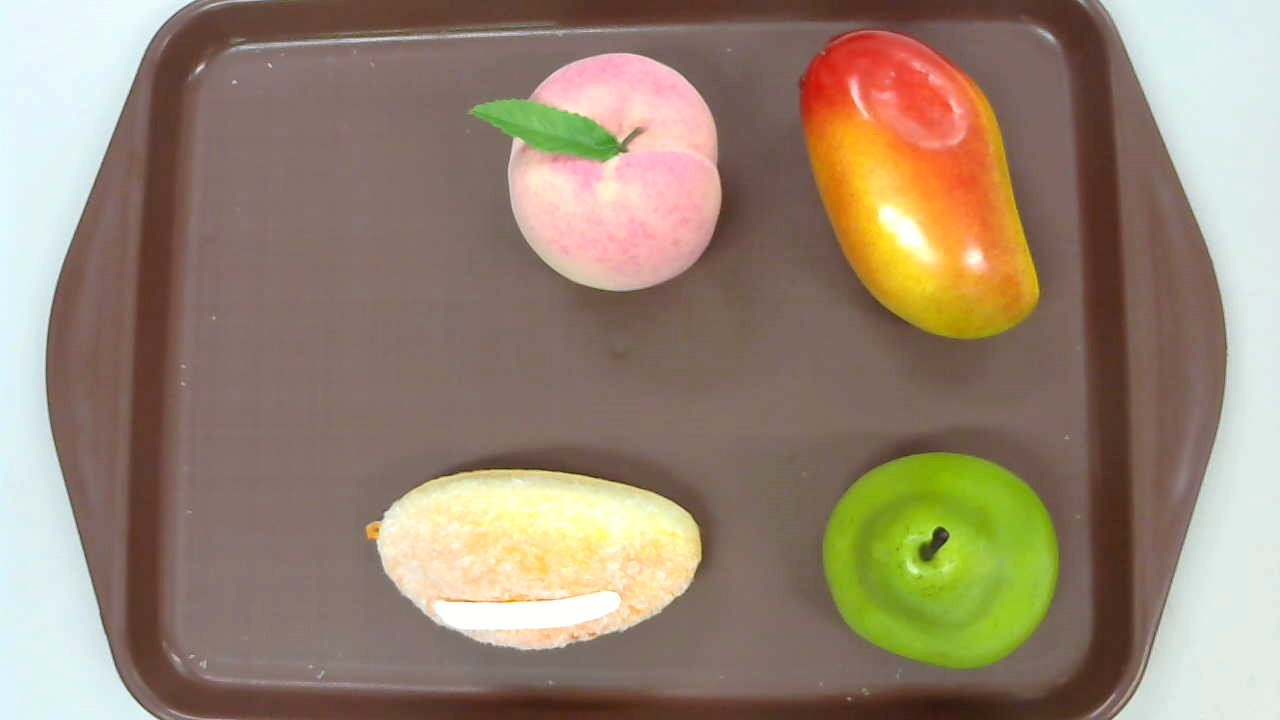coconut: (365, 469, 704, 650)
green pear: (822, 452, 1059, 669)
peaches: (465, 53, 724, 293)
red mango: (797, 28, 1041, 338)
